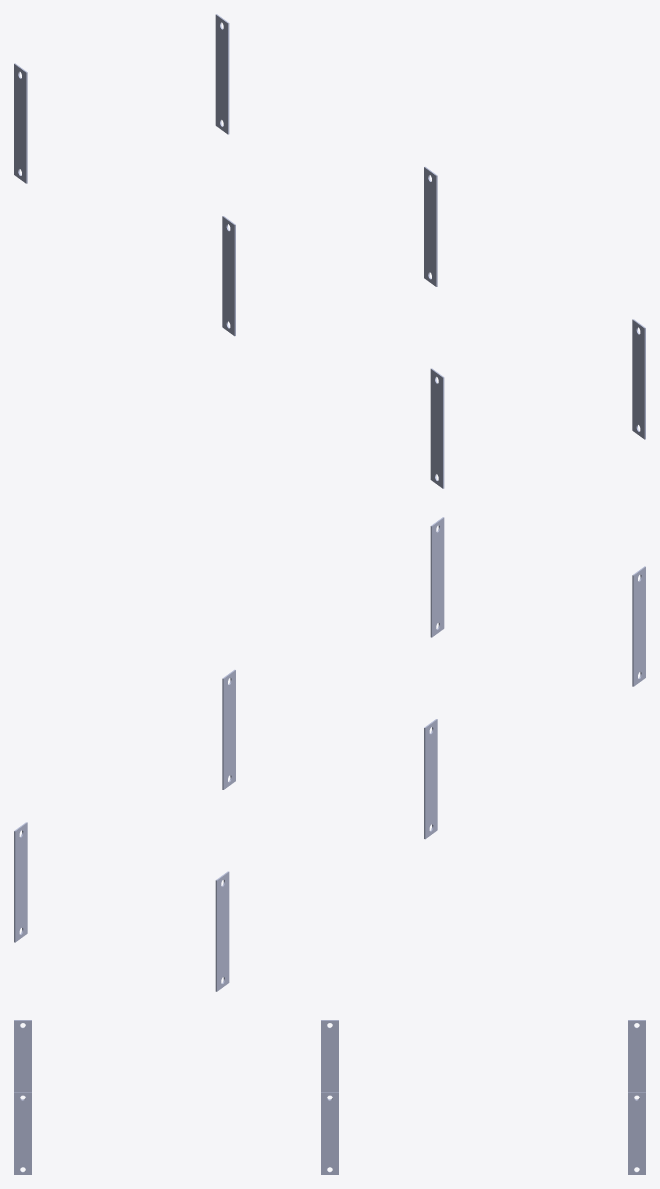
Rendered from BATTERY MODULE V1__SPINE__CLAMP ASSEMBLY__COMPRESSION PLATE.glb.
3 renders of one model, top to bottom at view 1: azimuth 30°, elevation 25°; view 2: azimuth 150°, elevation 25°; view 3: azimuth 270°, elevation 25°, orthographic. The views are drawn at different scales.
Visible parts, largest first — view 1: COMPRESSION PLATE 4, COMPRESSION PLATE 5, COMPRESSION PLATE 3, COMPRESSION PLATE 6, COMPRESSION PLATE 1, COMPRESSION PLATE 2; view 2: COMPRESSION PLATE 3, COMPRESSION PLATE 6, COMPRESSION PLATE 4, COMPRESSION PLATE 5, COMPRESSION PLATE 1, COMPRESSION PLATE 2; view 3: COMPRESSION PLATE 1, COMPRESSION PLATE 3, COMPRESSION PLATE 5, COMPRESSION PLATE 2, COMPRESSION PLATE 4, COMPRESSION PLATE 6.
Part boxes in pixels (left/top/right/bottom): COMPRESSION PLATE 4: left=430, top=368, right=444, bottom=488; COMPRESSION PLATE 5: left=215, top=14, right=229, bottom=134; COMPRESSION PLATE 3: left=632, top=319, right=645, bottom=439; COMPRESSION PLATE 6: left=14, top=63, right=27, bottom=183; COMPRESSION PLATE 1: left=424, top=166, right=437, bottom=286; COMPRESSION PLATE 2: left=222, top=216, right=235, bottom=336; COMPRESSION PLATE 3: left=430, top=517, right=444, bottom=637; COMPRESSION PLATE 6: left=215, top=871, right=229, bottom=991; COMPRESSION PLATE 4: left=632, top=566, right=645, bottom=686; COMPRESSION PLATE 5: left=14, top=822, right=27, bottom=942; COMPRESSION PLATE 1: left=222, top=669, right=235, bottom=789; COMPRESSION PLATE 2: left=424, top=719, right=437, bottom=839; COMPRESSION PLATE 1: left=321, top=1092, right=338, bottom=1174; COMPRESSION PLATE 3: left=14, top=1092, right=31, bottom=1174; COMPRESSION PLATE 5: left=628, top=1092, right=645, bottom=1174; COMPRESSION PLATE 2: left=321, top=1020, right=338, bottom=1099; COMPRESSION PLATE 4: left=14, top=1020, right=31, bottom=1099; COMPRESSION PLATE 6: left=628, top=1020, right=645, bottom=1099.
Bounding box in the file's own units: 0.2426 × 0.127 × 0.8878.
